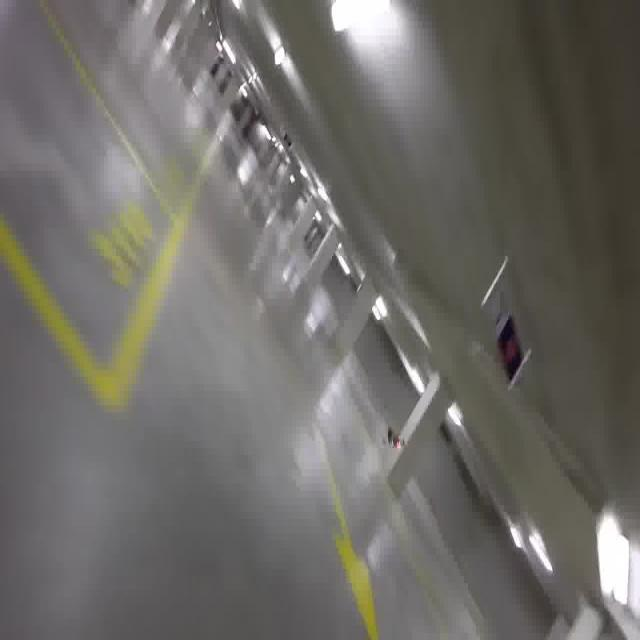drones: (377, 411, 408, 461)
